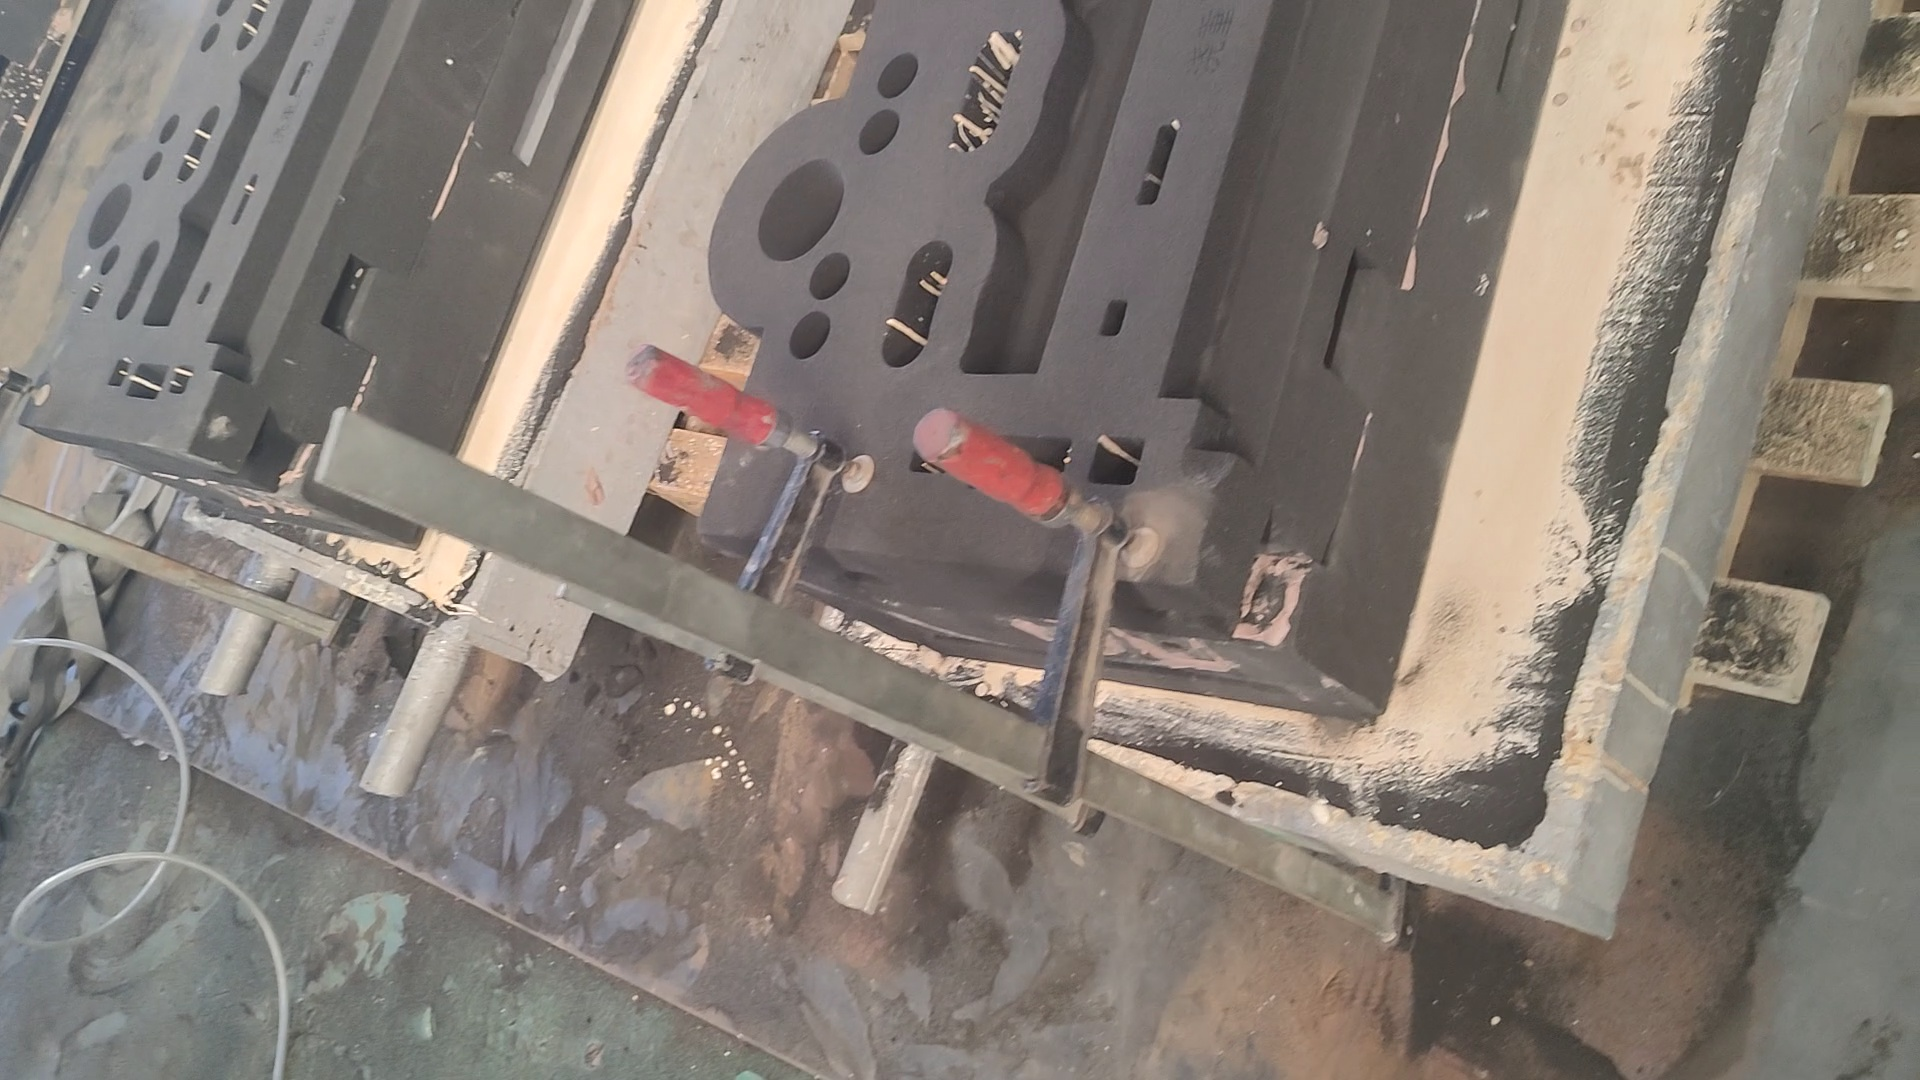pouring hole: (757, 157, 844, 261), (87, 182, 131, 249)
